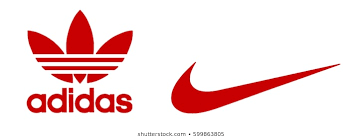adidas: (24, 8, 138, 114)
nike: (169, 64, 339, 114)
